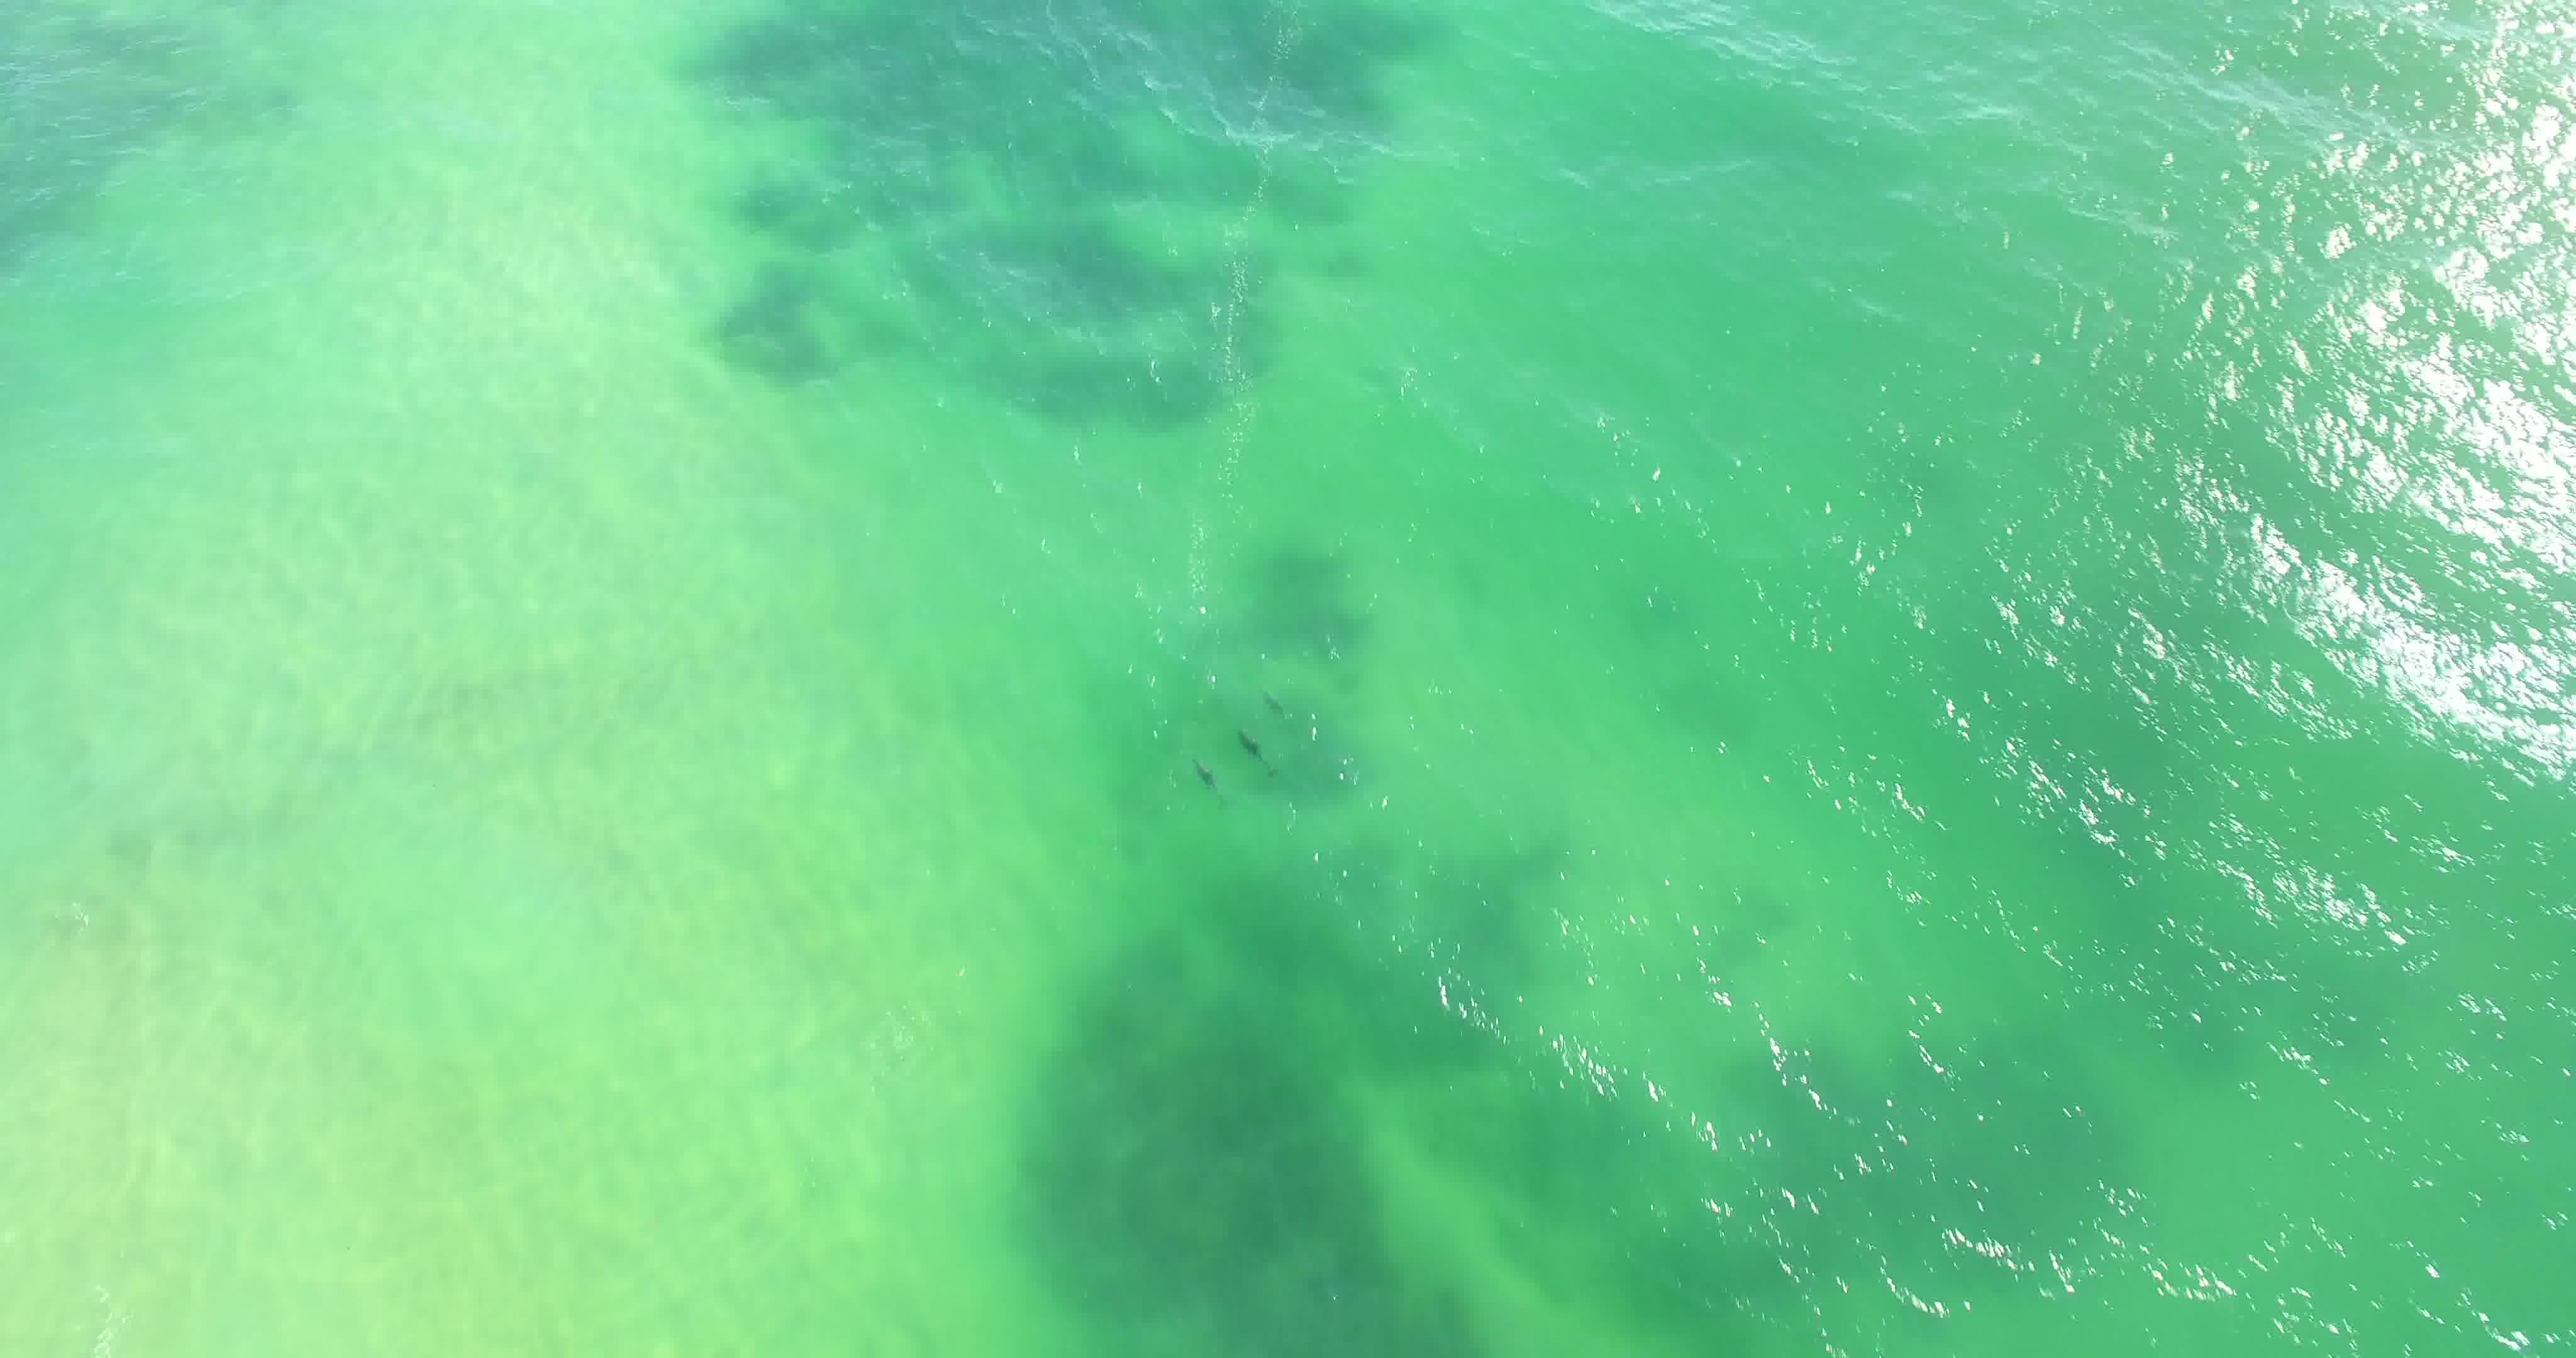dolphin: (1220, 717, 1286, 782), (1174, 745, 1235, 813), (1254, 682, 1310, 739)
